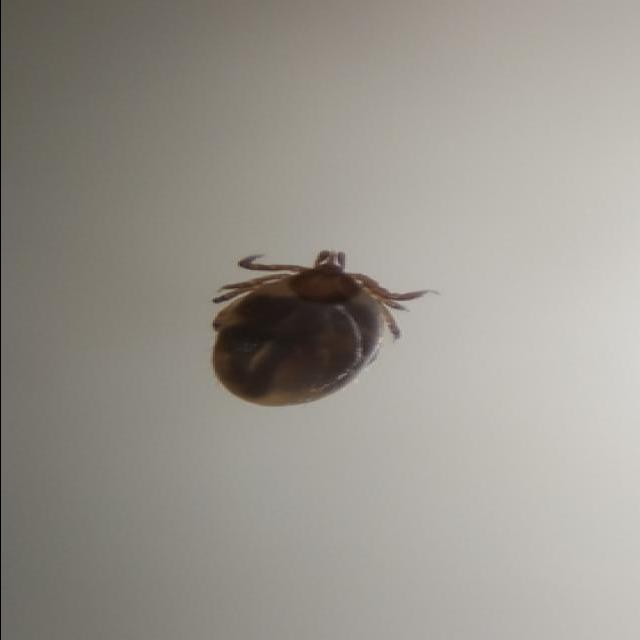Ixodes Ricinus-F-Fed: (212, 250, 440, 410)
